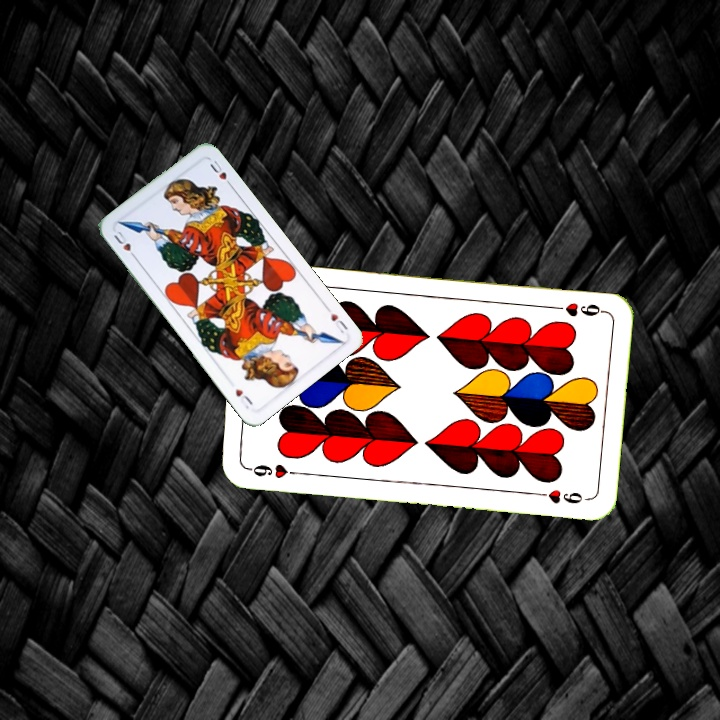H9: (548, 298, 608, 320), (243, 460, 302, 481)
HU: (110, 226, 140, 262), (326, 309, 350, 336)
